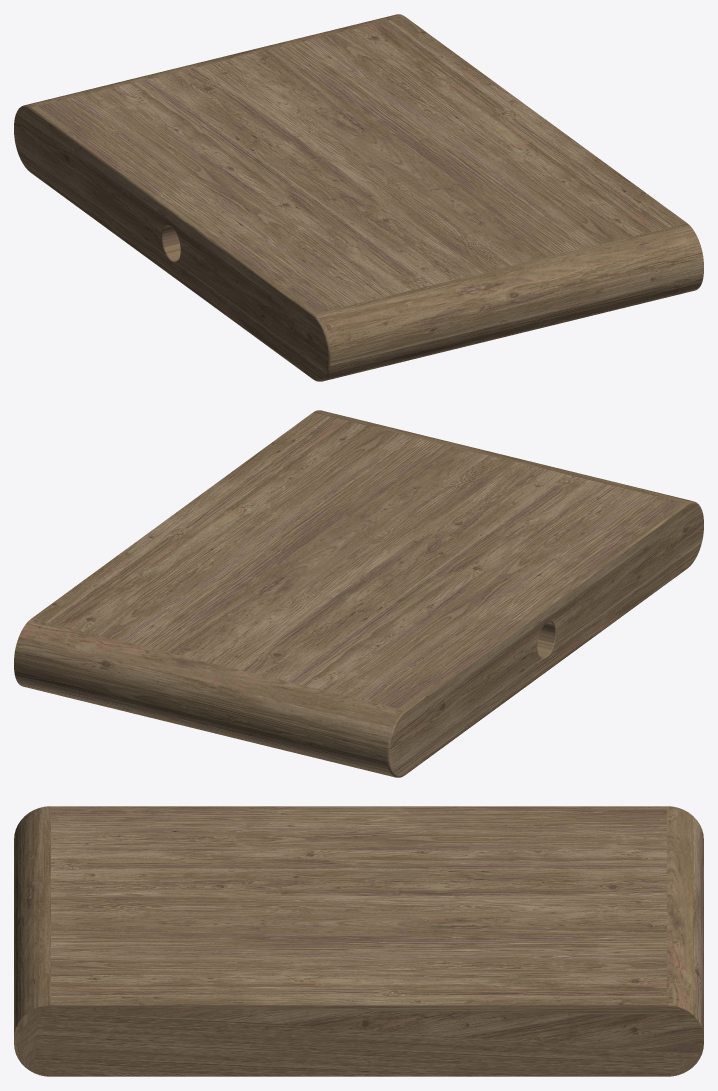
The model's file is rackDefoult.gltf.
3 views of the same model, one above another, from view 1: azimuth 30°, elevation 25°; view 2: azimuth 150°, elevation 25°; view 3: azimuth 270°, elevation 25° (orthographic). The views are drawn at different scales.
Parts seen in each view (by area): view 1: rackDefoult; view 2: rackDefoult; view 3: rackDefoult.
Boxes of the visible parts, <box> form: rackDefoult: <box>14,14,703,381</box>; rackDefoult: <box>14,410,703,777</box>; rackDefoult: <box>14,806,703,1076</box>.
Bounding box in the file's own units: 2.4 × 0.4 × 3.5.
1 material, 1 textured.
